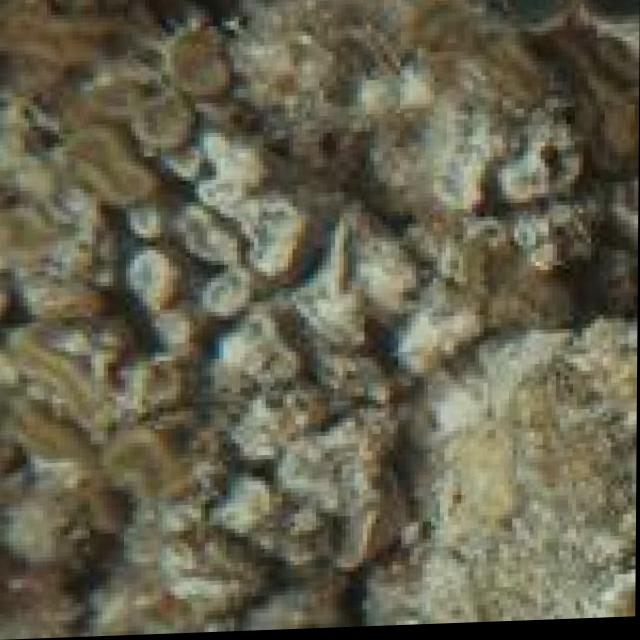Bleached Coral: (127, 145, 400, 600), (441, 119, 605, 269)
